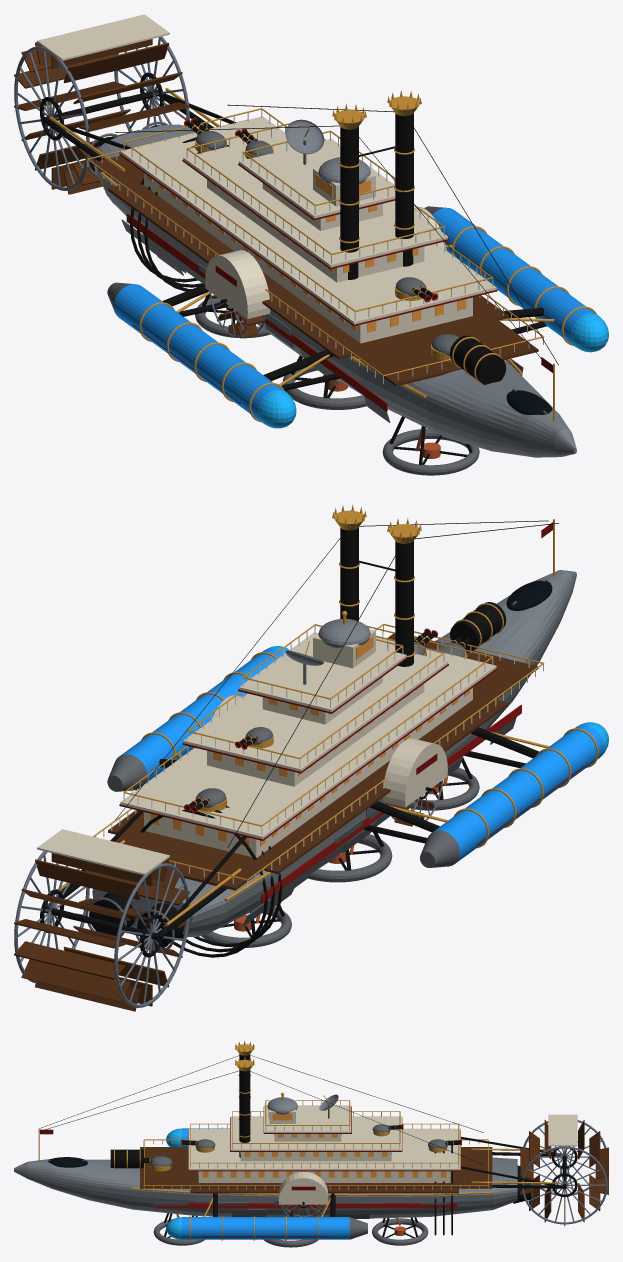
Rendered from cruiser.obj.
3 views of the same model, one above another, from view 1: azimuth 30°, elevation 25°; view 2: azimuth 150°, elevation 25°; view 3: azimuth 270°, elevation 25° (orthographic). The views are drawn at different scales.
Parts seen in each view (by area): view 1: cruiser; view 2: cruiser; view 3: cruiser.
Boxes of the visible parts, <box> form: cruiser: <box>14,14,608,475</box>; cruiser: <box>14,504,608,1011</box>; cruiser: <box>14,1041,608,1247</box>.
Bounding box in the file's own units: 316 × 271 × 800.
Materials: 1 (1 with a texture image).
